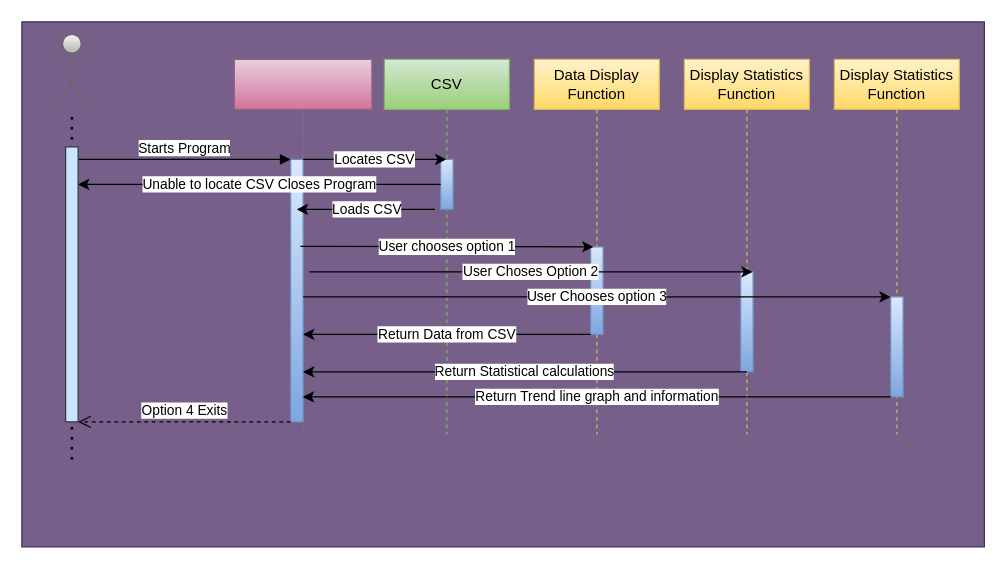
The diagram is 1006 pixels wide and 569 high, and some of its shapes have lost their labels. Each missing label, with the box of its shape:
Actor: (52, 33, 91, 109)
UI: (233, 58, 372, 434)
